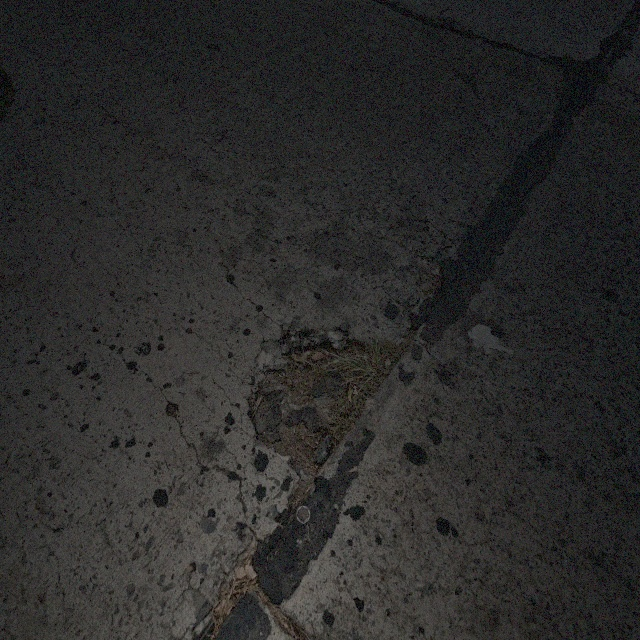pothole: (252, 315, 412, 503)
